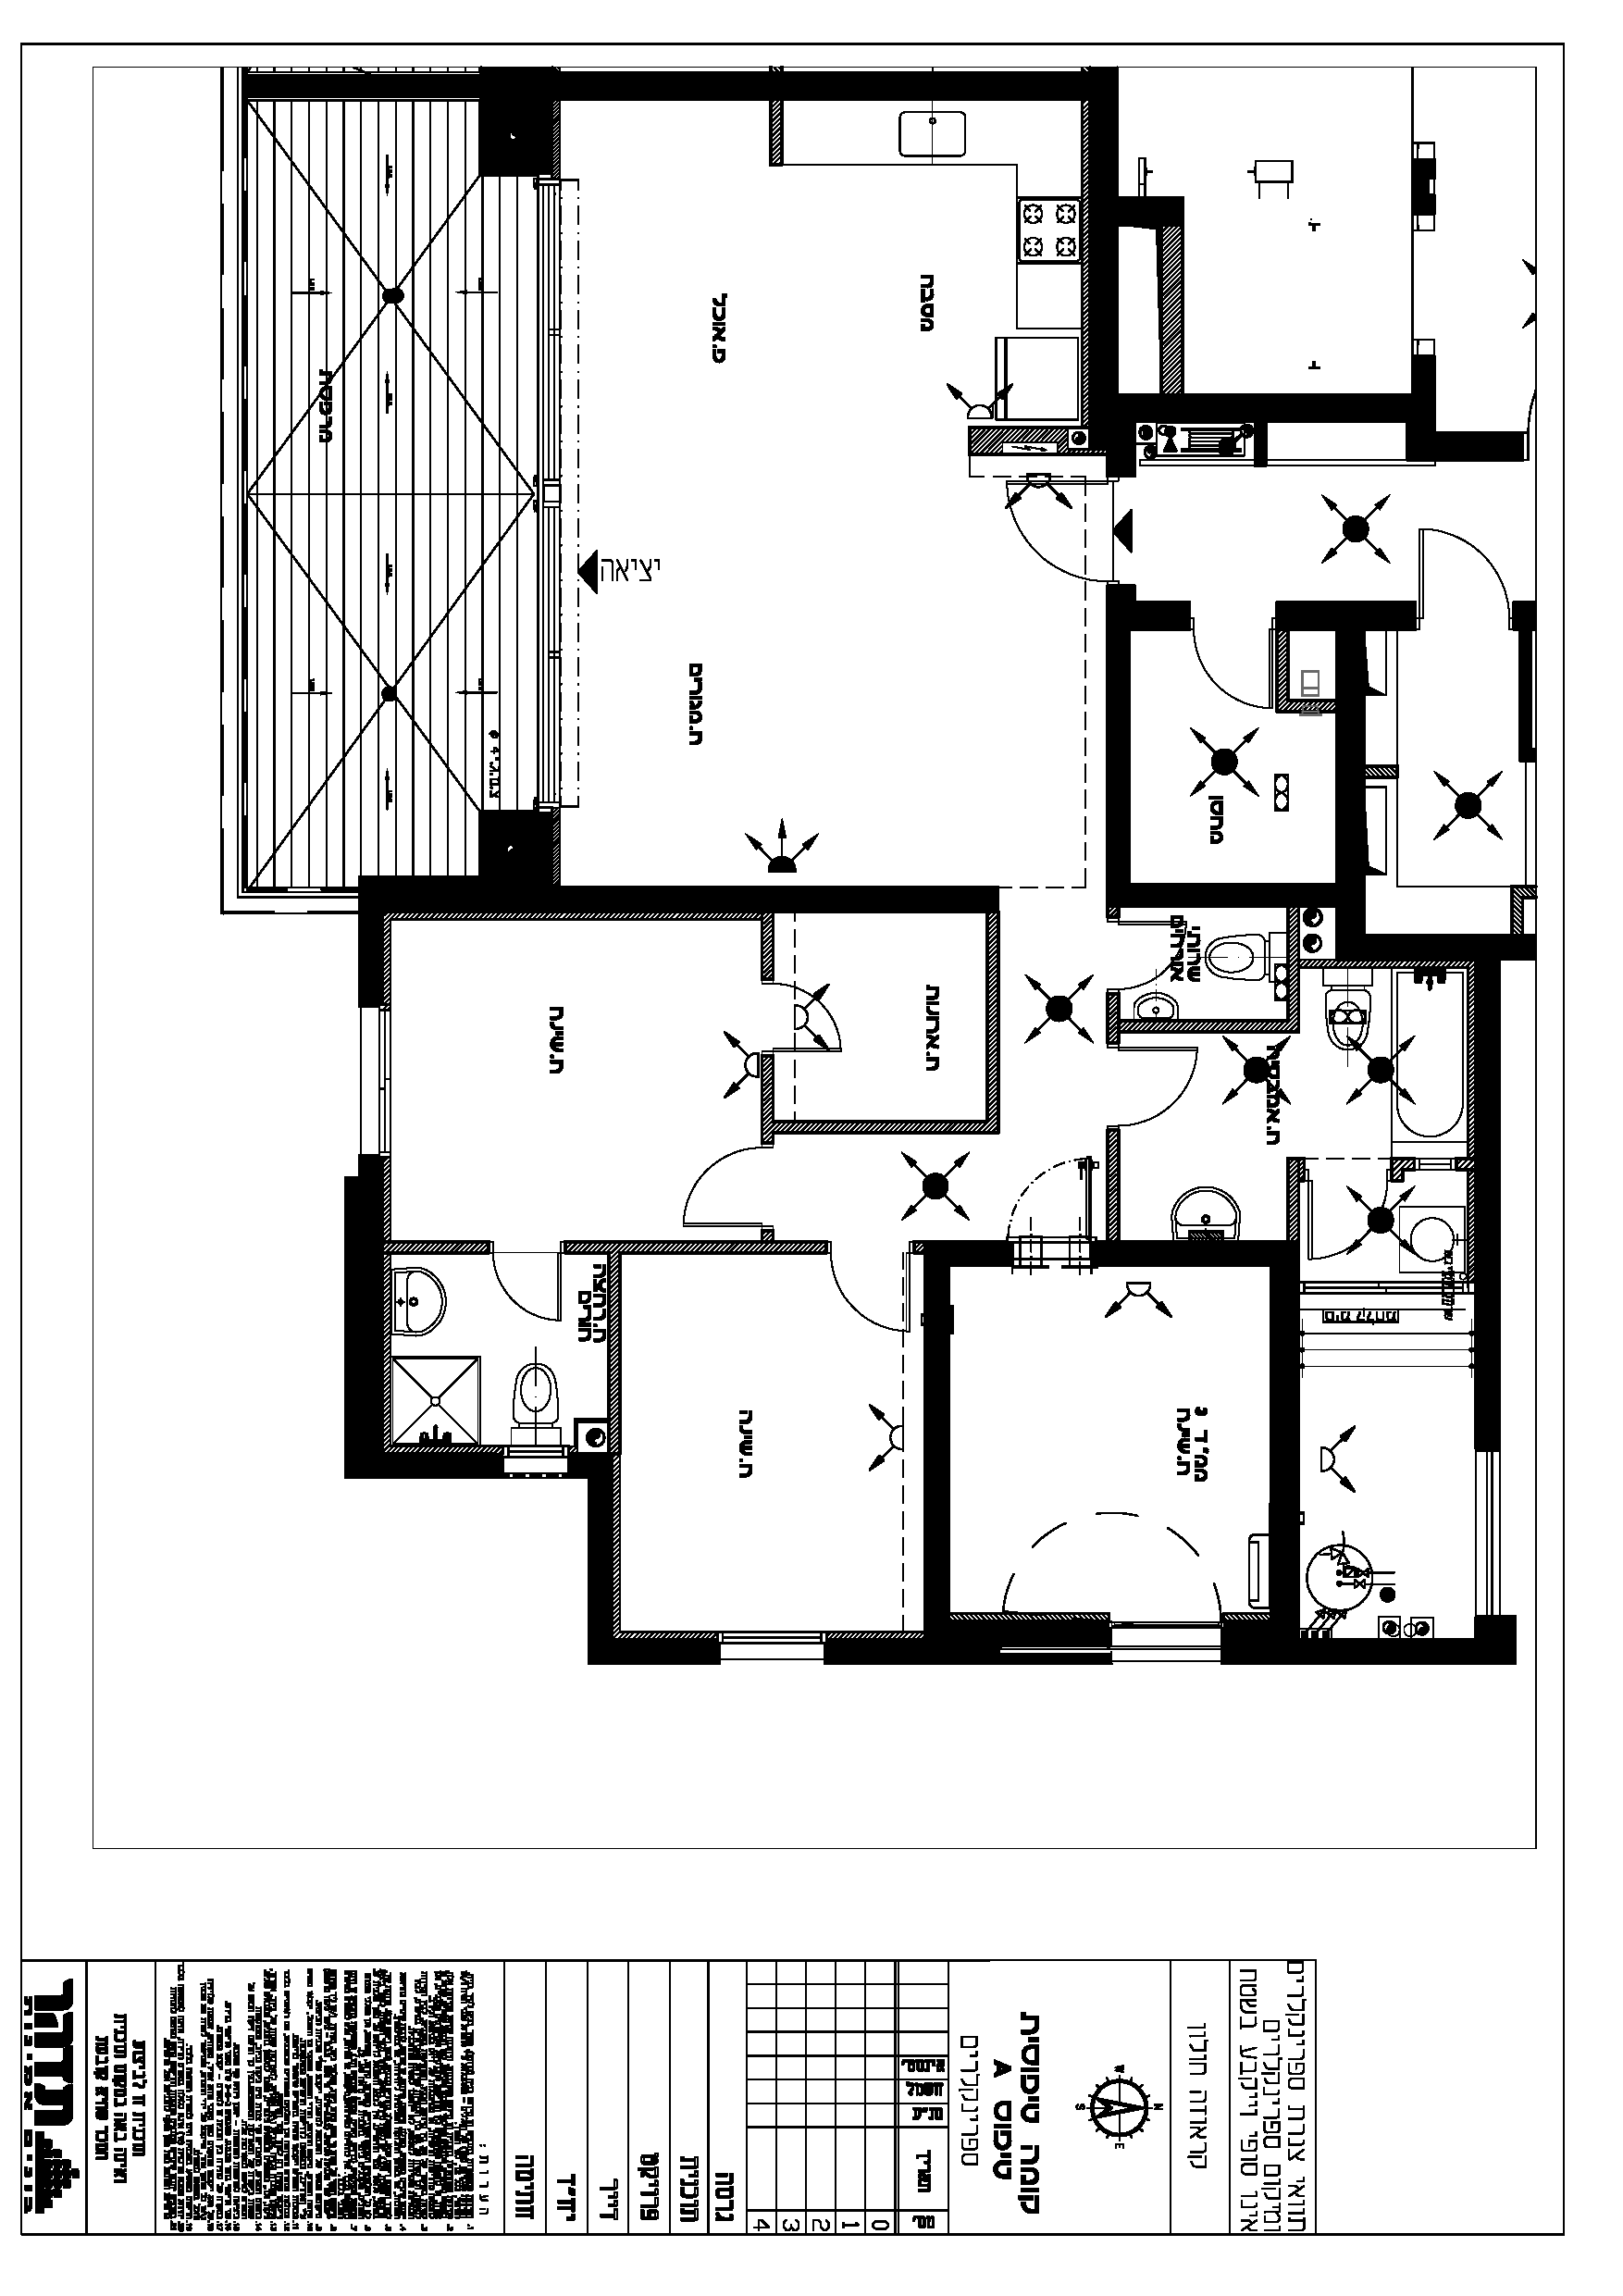door: (996, 474, 1107, 583), (1003, 1147, 1101, 1240), (1416, 520, 1512, 611), (1121, 1043, 1210, 1131), (824, 1253, 919, 1335), (1187, 629, 1275, 717), (678, 1144, 764, 1231), (778, 978, 857, 1056), (487, 1254, 566, 1325)
wall: (557, 70, 1082, 100), (1472, 933, 1500, 1453), (1080, 69, 1117, 451), (1268, 1242, 1298, 1665), (560, 887, 998, 912), (924, 1613, 1108, 1667)
window: (1110, 1620, 1238, 1671), (358, 1005, 392, 1159), (1474, 1451, 1500, 1616), (717, 1630, 826, 1665), (502, 1444, 571, 1477)
